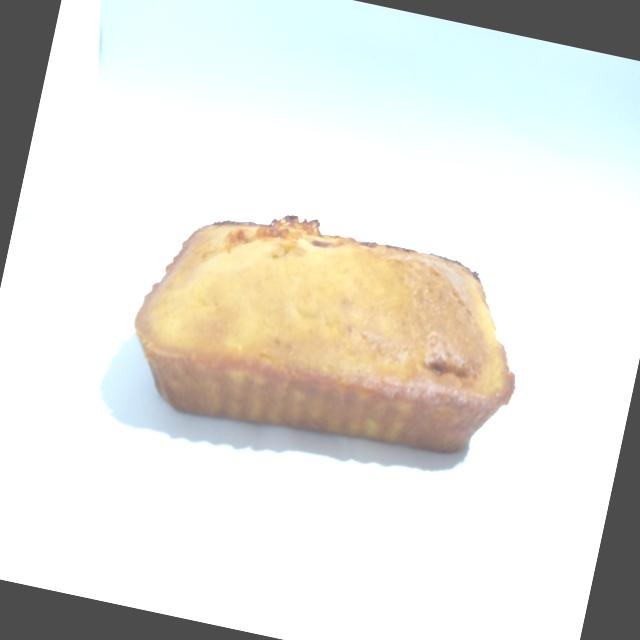Sopa: (110, 166, 550, 491)
